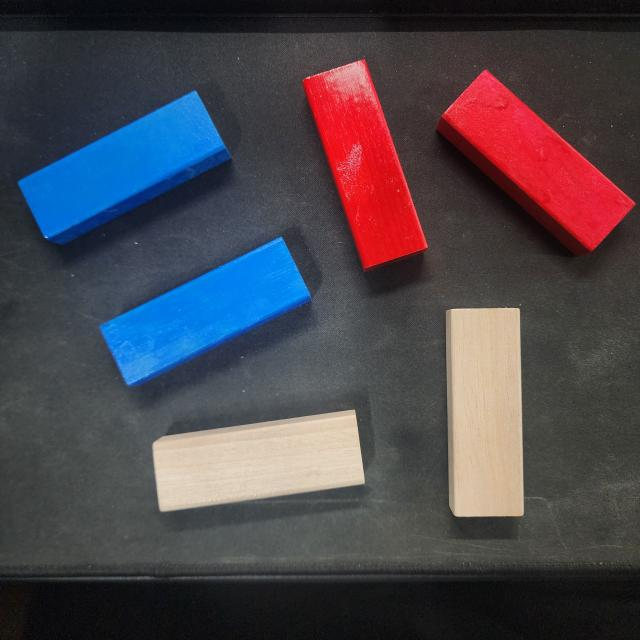blue: (14, 86, 232, 253), (99, 236, 314, 390)
red: (432, 68, 636, 262), (299, 59, 430, 274)
wood: (150, 410, 366, 512), (445, 308, 524, 518)
